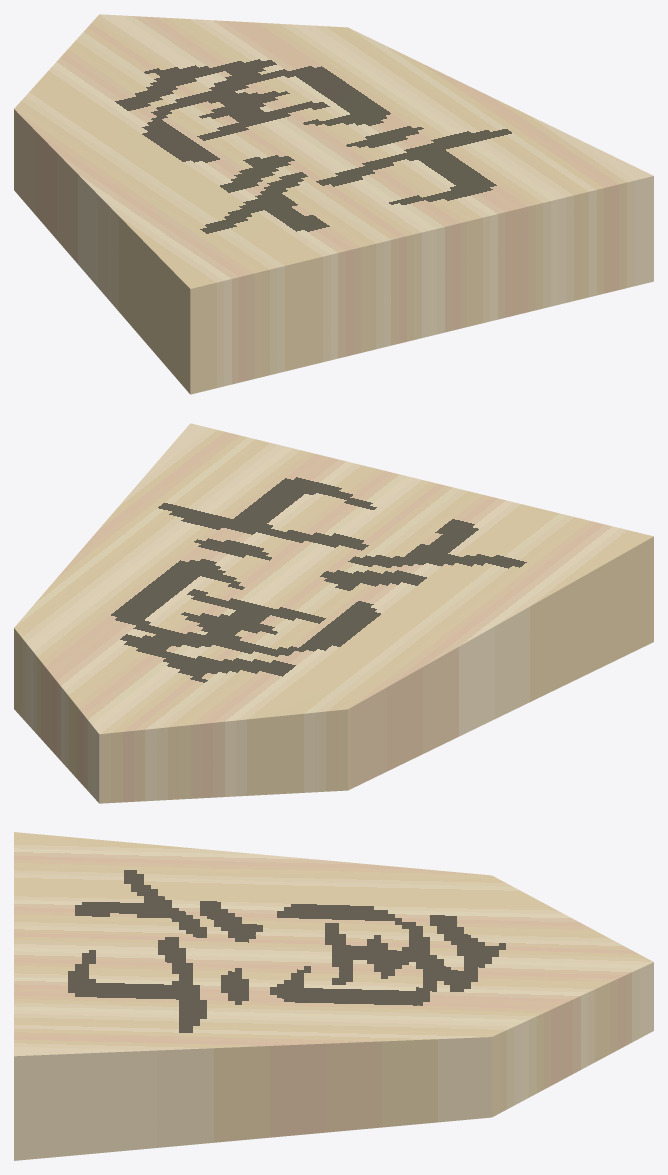
Rendered from 01b8_Kakugyo.glb.
The picture shows the model from 3 angles, top to bottom: view 1: azimuth 30°, elevation 25°; view 2: azimuth 150°, elevation 25°; view 3: azimuth 270°, elevation 25°; orthographic projection.
Parts seen in each view (by area): view 1: part_0; view 2: part_0; view 3: part_0.
Part boxes in pixels (x1,y1,x2,y2): part_0: [14, 14, 653, 394]; part_0: [14, 423, 653, 803]; part_0: [14, 832, 653, 1160].
Size of the model in its own units: 0.0266 by 0.00579 by 0.0321.
1 material, 1 textured.
